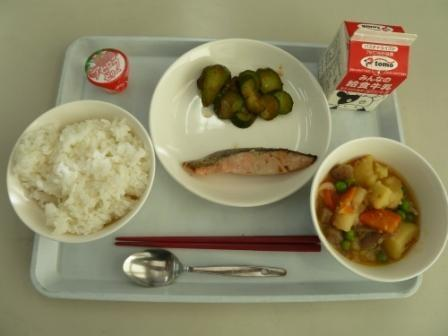Cup desserts: (75, 42, 138, 90)
Fish: (180, 138, 309, 189)
Milk: (324, 15, 422, 115)
Rice: (18, 111, 144, 240)
Salad: (185, 60, 294, 122)
vegetable based cooked food: (309, 142, 429, 264)
